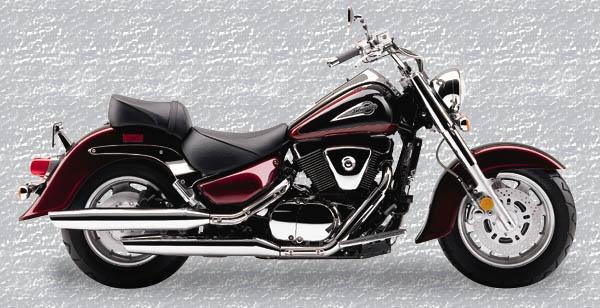motorcycle: (3, 1, 593, 299)
